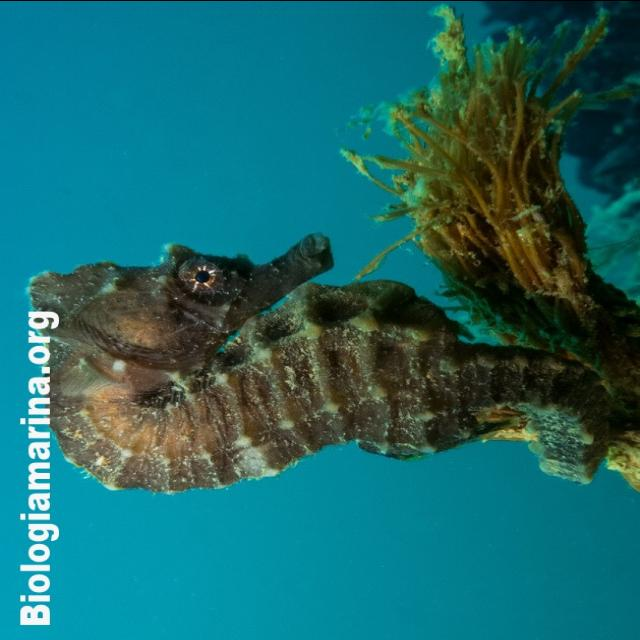Hippo: (24, 224, 342, 376)
